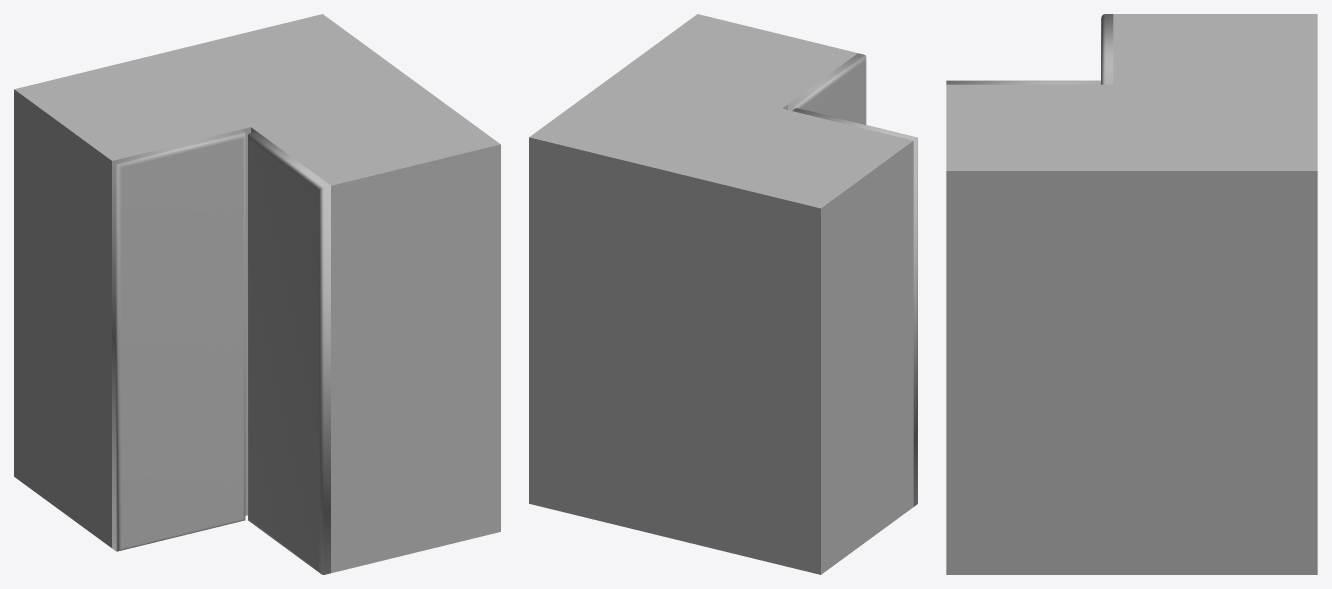
The picture shows the model from 3 angles, left to right: view 1: azimuth 30°, elevation 25°; view 2: azimuth 150°, elevation 25°; view 3: azimuth 270°, elevation 25°; orthographic projection. The views are drawn at different scales.
Parts seen in each view (by area): view 1: ملحق 60*60* L, Box016, Box013; view 2: ملحق 60*60* L, Box013, Box016; view 3: ملحق 60*60* L, Box016, Box013.
Boxes of the visible parts, x1=… form: ملحق 60*60* L: x1=14, y1=14, x2=500, y2=573; Box016: x1=112, y1=129, x2=245, y2=551; Box013: x1=248, y1=131, x2=330, y2=574; ملحق 60*60* L: x1=529, y1=14, x2=913, y2=574; Box013: x1=788, y1=53, x2=866, y2=124; Box016: x1=792, y1=108, x2=917, y2=506; ملحق 60*60* L: x1=946, y1=14, x2=1317, y2=574; Box016: x1=1101, y1=14, x2=1113, y2=84; Box013: x1=946, y1=80, x2=1100, y2=84.
Size of the model in its own units: 0.6 by 0.72 by 0.6.
Materials: 1 (1 with a texture image).
